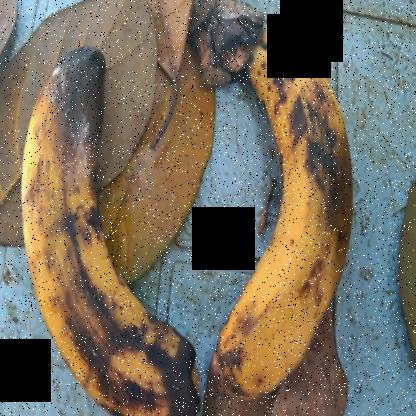overripe: (11, 38, 208, 415), (214, 31, 364, 399)
